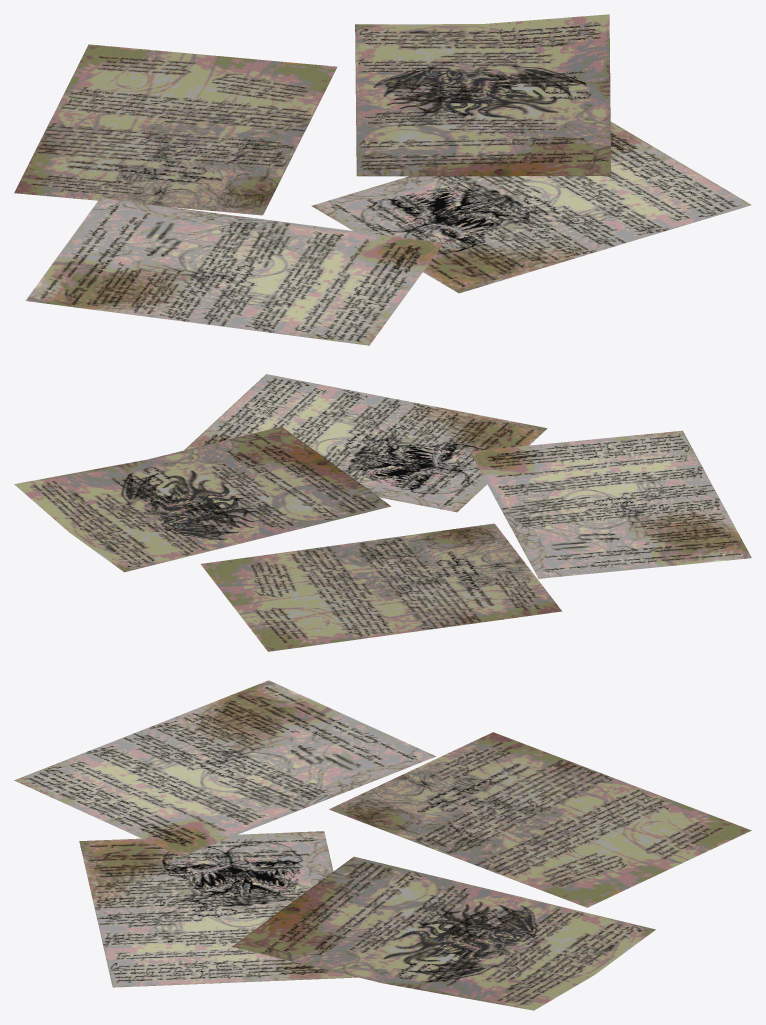
File: PaperBookSheets.fbx
3 renders of one model, top to bottom at view 1: azimuth 30°, elevation 25°; view 2: azimuth 150°, elevation 25°; view 3: azimuth 270°, elevation 25°, orthographic. The views are drawn at different scales.
Visible parts, largest first — view 1: PaperSheet.002; view 2: PaperSheet.002; view 3: PaperSheet.002.
Part boxes in pixels (x1,y1,x2,y2): PaperSheet.002: (14,14,751,345); PaperSheet.002: (14,374,751,651); PaperSheet.002: (14,680,751,1010).
Bounding box in the file's own units: 51.95 × 0.8902 × 47.6.
1 material, 1 textured.
